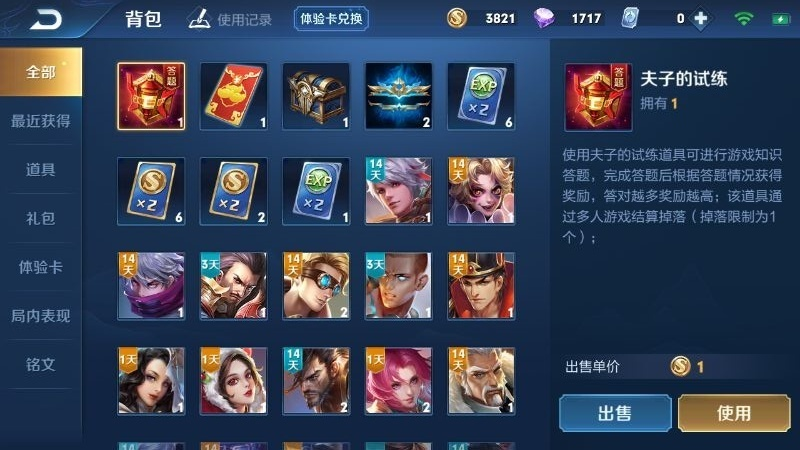return: (15, 2, 79, 34)
tag: (7, 148, 80, 189), (8, 345, 80, 384), (7, 200, 77, 240), (1, 293, 78, 328), (8, 247, 80, 284), (8, 103, 72, 132)
